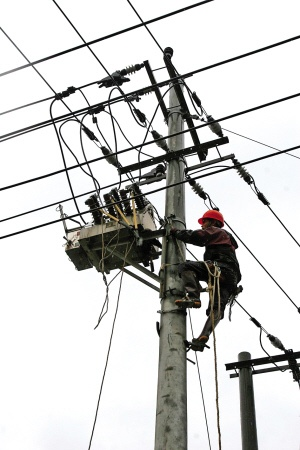red: (197, 207, 227, 231)
